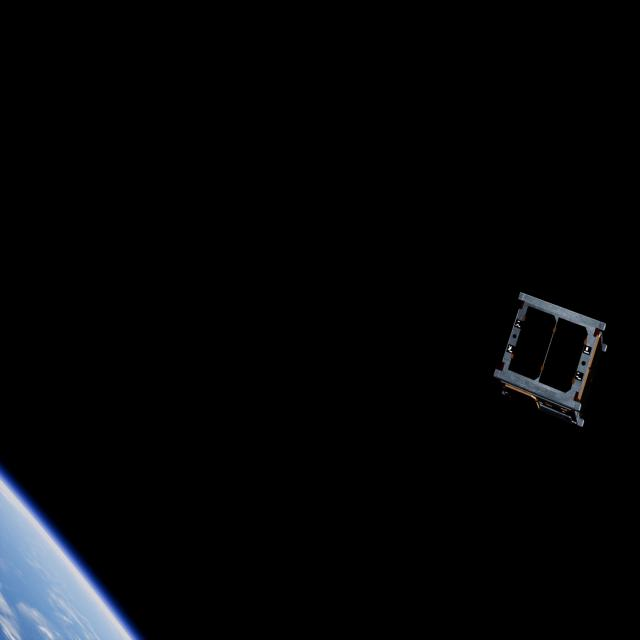medium_debris: (494, 289, 608, 431)
